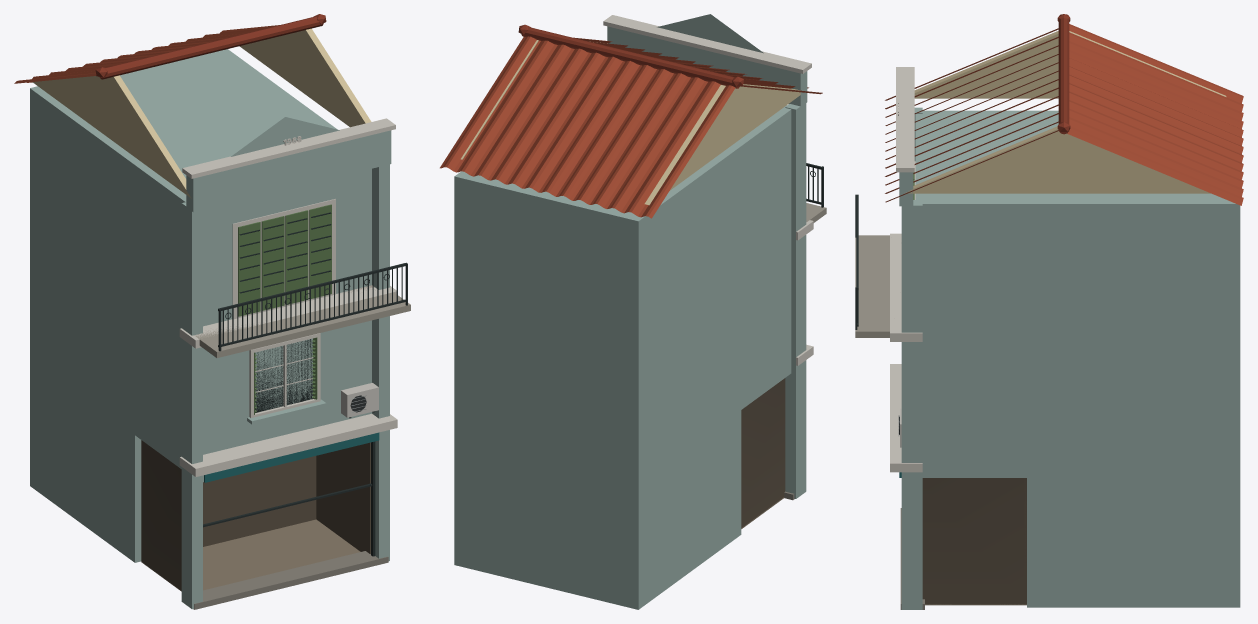
File: nha_D.glb
3 renders of one model, left to right at view 1: azimuth 30°, elevation 25°; view 2: azimuth 150°, elevation 25°; view 3: azimuth 270°, elevation 25°, orthographic. The views are drawn at different scales.
Parts seen in each view (by area): view 1: nha_D; view 2: nha_D; view 3: nha_D.
Boxes of the visible parts, bbox=[...] form: nha_D: bbox=[14, 14, 410, 609]; nha_D: bbox=[440, 14, 826, 609]; nha_D: bbox=[855, 14, 1243, 609].
Size of the model in its own units: 5.79 by 11.75 by 8.37.
